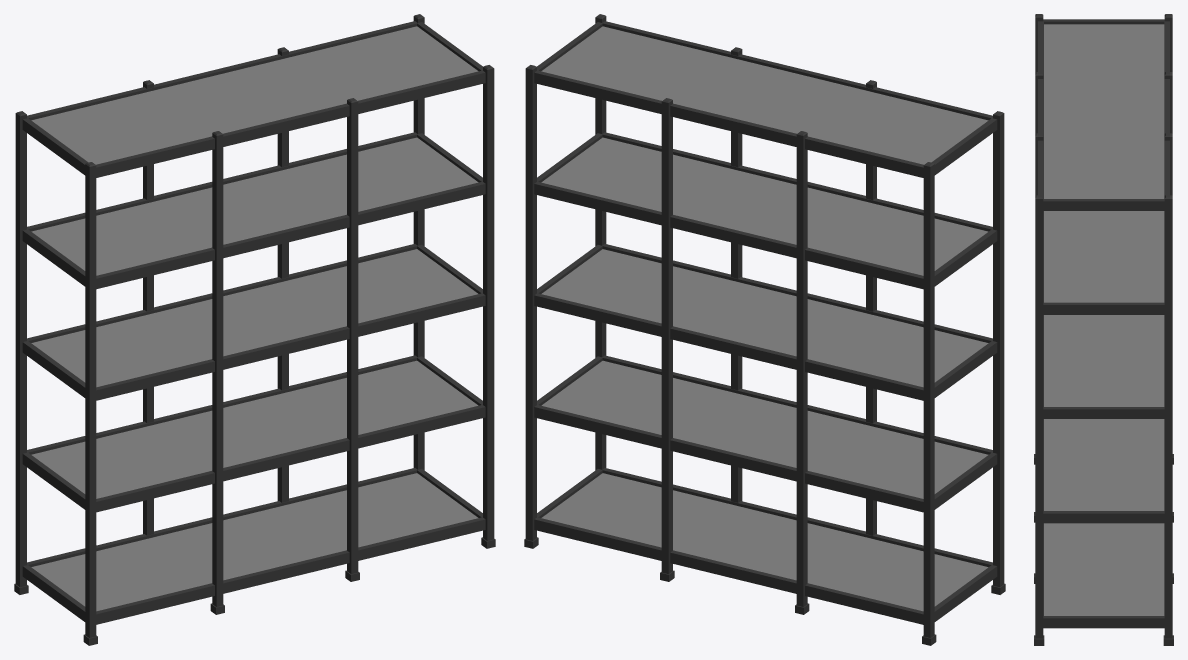
Rendered from props_55.glb.
3 renders of one model, left to right at view 1: azimuth 30°, elevation 25°; view 2: azimuth 150°, elevation 25°; view 3: azimuth 270°, elevation 25°, orthographic. The views are drawn at different scales.
Parts seen in each view (by area): view 1: props_55; view 2: props_55; view 3: props_55.
Part boxes in pixels (bbox=[...]): props_55: bbox=[14, 14, 495, 645]; props_55: bbox=[524, 14, 1005, 645]; props_55: bbox=[1034, 14, 1173, 645].
Bounding box in the file's own units: 2.99 × 3.37 × 0.9536.
1 material, 1 textured.
